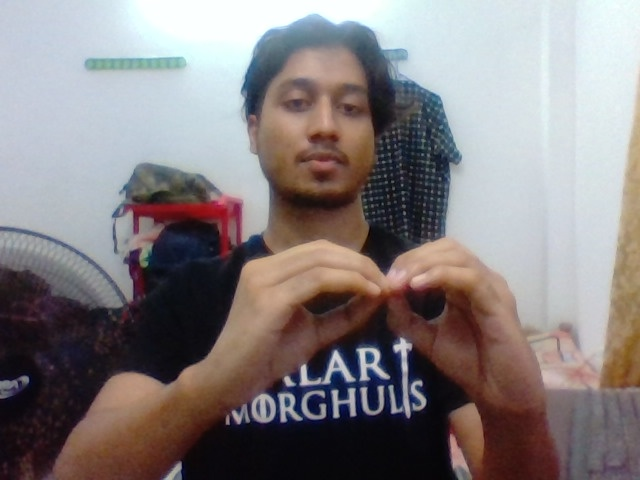B: (222, 231, 567, 403)
